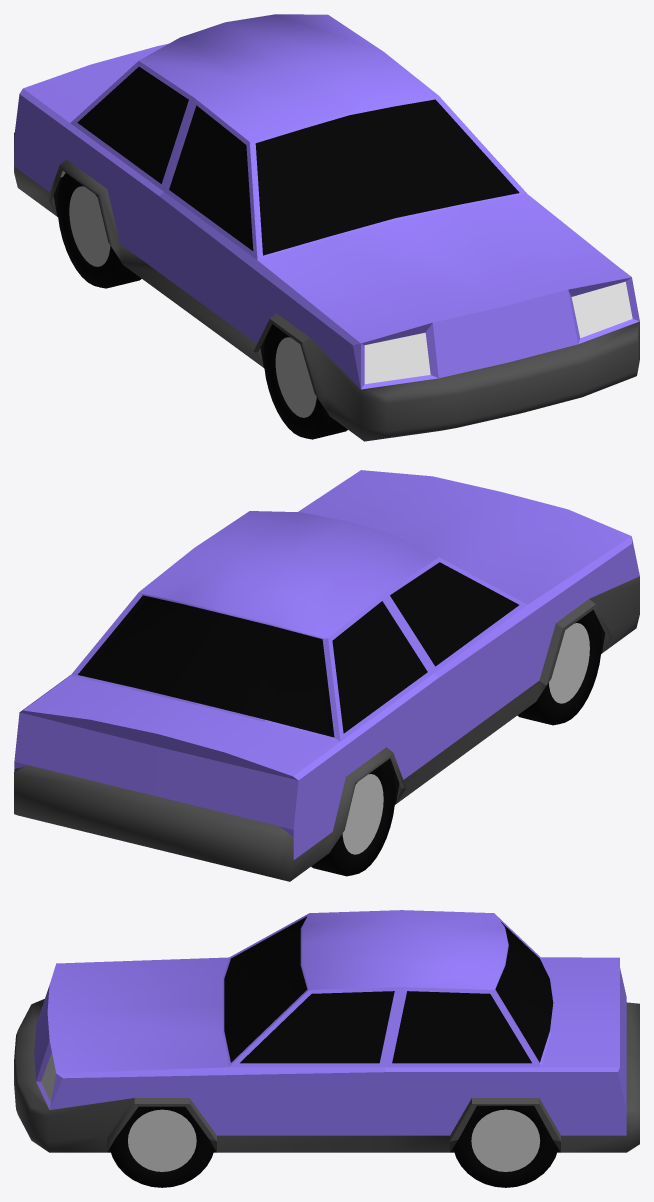
Rendered from car.glb.
3 views of the same model, one above another, from view 1: azimuth 30°, elevation 25°; view 2: azimuth 150°, elevation 25°; view 3: azimuth 270°, elevation 25° (orthographic). The views are drawn at different scales.
Visible parts, largest first — view 1: Car; view 2: Car; view 3: Car.
Boxes of the visible parts, bbox=[...] form: Car: bbox=[14, 14, 639, 441]; Car: bbox=[14, 470, 639, 881]; Car: bbox=[14, 910, 639, 1187].
Size of the model in its own units: 2.1 by 1.59 by 4.66.
